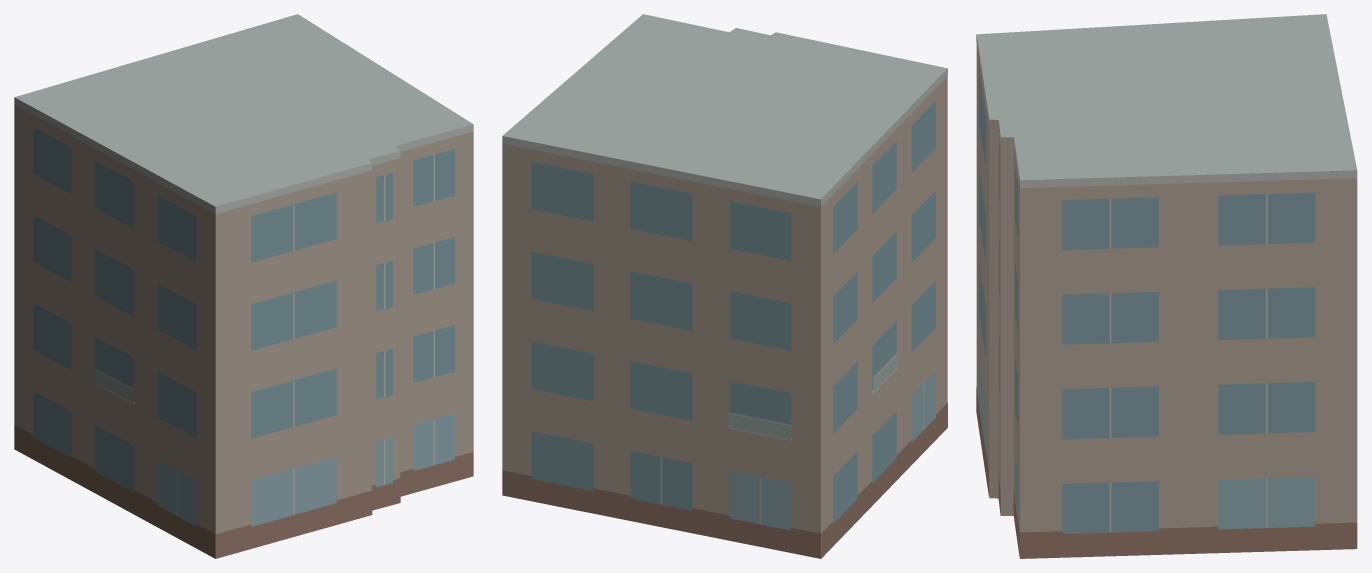
File: survey-upis-32699413.glb
3 renders of one model, left to right at view 1: azimuth 30°, elevation 25°; view 2: azimuth 150°, elevation 25°; view 3: azimuth 270°, elevation 25°, orthographic. The views are drawn at different scales.
Visible parts, largest first — view 1: survey-upis-32699413.tmp; view 2: survey-upis-32699413.tmp; view 3: survey-upis-32699413.tmp.
Boxes of the visible parts, x1,y1,x2,y2 form: survey-upis-32699413.tmp: (14,14,473,558); survey-upis-32699413.tmp: (502,14,947,558); survey-upis-32699413.tmp: (976,14,1357,558).
Size of the model in its own units: 11.03 by 11.7 by 10.67.
